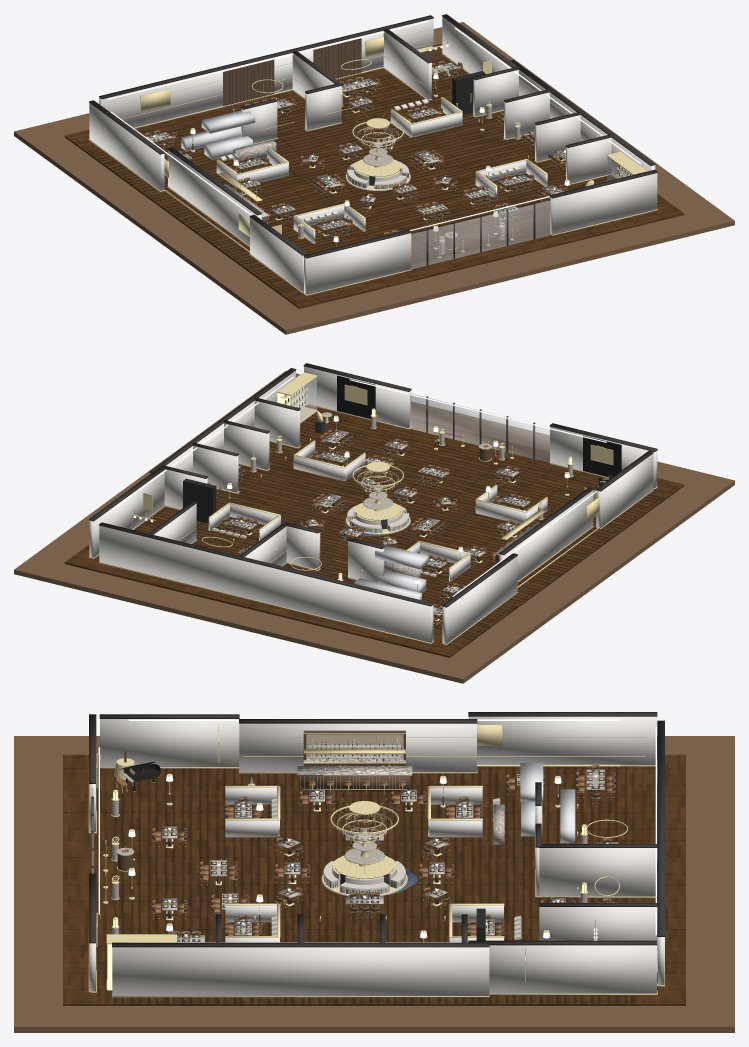
The model's file is the_golden_oak_interior.optimized.glb.
The picture shows the model from 3 angles, top to bottom: view 1: azimuth 30°, elevation 25°; view 2: azimuth 150°, elevation 25°; view 3: azimuth 270°, elevation 25°; orthographic projection. The views are drawn at different scales.
Visible parts, largest first — view 1: Main_Restaurant_Floor, Exterior_Ground_Plinth, Wall_North_Main, South_Glass_Portico, Wall_South_Left, Wall_South_Right, Wall_West_Center, Wall_West_Upper, Wall_West_Lower, VIP1_Fluted_Wall, Part_VIP2_East, Wall_East_Upper (+20 smaller); view 2: Main_Restaurant_Floor, Exterior_Ground_Plinth, Wall_North_Main, South_Glass_Portico, Wall_West_Upper, Wall_West_Center, Wall_South_Right, Wall_East_Upper, Wall_West_Lower, Wall_South_Left, East_Alcove_Divider_-9.5, East_Alcove_Divider_-4.5 (+20 smaller); view 3: Main_Restaurant_Floor, Exterior_Ground_Plinth, Wall_East_AlcoveBack, Wall_East_Upper, Wall_West_Upper, Wall_West_Center, Wall_West_Lower, Part_VIP1_East, Part_VIP2_East, Wall_East_AlcoveBack_Cap, Bar_Back_Bronze_Mirror, Wall_North_Main_Cap (+21 smaller).
Part boxes in pixels (x1,y1,x2,y2): Main_Restaurant_Floor: [64, 43, 684, 308]; Exterior_Ground_Plinth: [14, 22, 734, 334]; Wall_North_Main: [99, 18, 433, 127]; South_Glass_Portico: [411, 200, 551, 268]; Wall_South_Left: [304, 233, 411, 294]; Wall_South_Right: [550, 173, 657, 234]; Wall_West_Center: [168, 150, 261, 245]; Wall_West_Upper: [89, 103, 164, 190]; Wall_West_Lower: [250, 217, 303, 291]; VIP1_Fluted_Wall: [223, 59, 274, 106]; Part_VIP2_East: [383, 31, 431, 99]; Wall_East_Upper: [442, 17, 511, 73]; Main_Restaurant_Floor: [64, 405, 684, 657]; Exterior_Ground_Plinth: [14, 371, 734, 683]; Wall_North_Main: [99, 525, 433, 642]; South_Glass_Portico: [409, 393, 549, 462]; Wall_West_Upper: [442, 556, 517, 643]; Wall_West_Center: [499, 490, 593, 581]; Wall_South_Right: [304, 366, 411, 428]; Wall_East_Upper: [89, 470, 164, 557]; Wall_West_Lower: [596, 453, 653, 527]; Wall_South_Left: [550, 426, 657, 488]; East_Alcove_Divider_-9.5: [254, 400, 300, 447]; East_Alcove_Divider_-4.5: [224, 423, 269, 470]; Main_Restaurant_Floor: [63, 754, 685, 1005]; Exterior_Ground_Plinth: [14, 736, 734, 1032]; Wall_East_AlcoveBack: [112, 947, 489, 995]; Wall_East_Upper: [489, 945, 656, 993]; Wall_West_Upper: [468, 716, 656, 765]; Wall_West_Center: [239, 723, 476, 772]; Wall_West_Lower: [100, 719, 239, 767]; Part_VIP1_East: [539, 848, 657, 896]; Part_VIP2_East: [539, 907, 657, 950]; Wall_East_AlcoveBack_Cap: [112, 942, 489, 947]; Bar_Back_Bronze_Mirror: [306, 734, 403, 758]; Wall_North_Main_Cap: [657, 720, 664, 936].
Size of the model in its own units: 42 by 5.38 by 44.
Materials: 64 (3 with a texture image).
